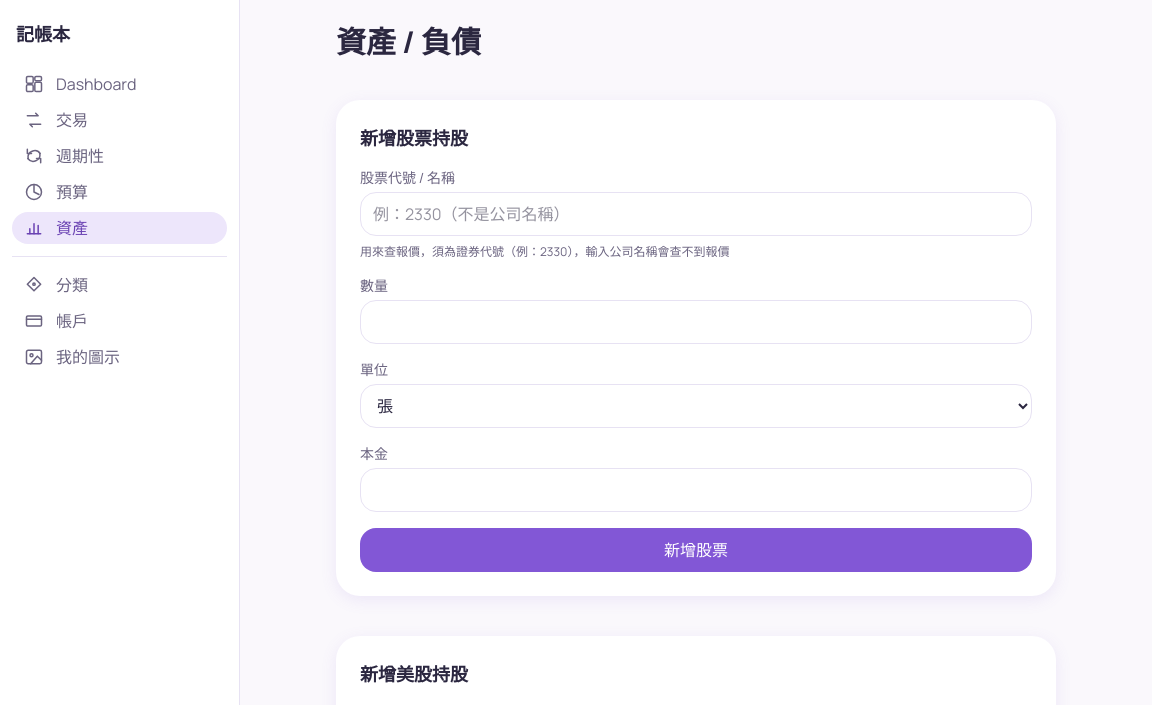
Test: AssetsPage › 輸入尚未持有的標的時不顯示合併提示，送出後 toast 顯示已新增
Type "2454" into the field labelled "股票代號 / 名稱" at (696, 214), box [360,192,1032,236]
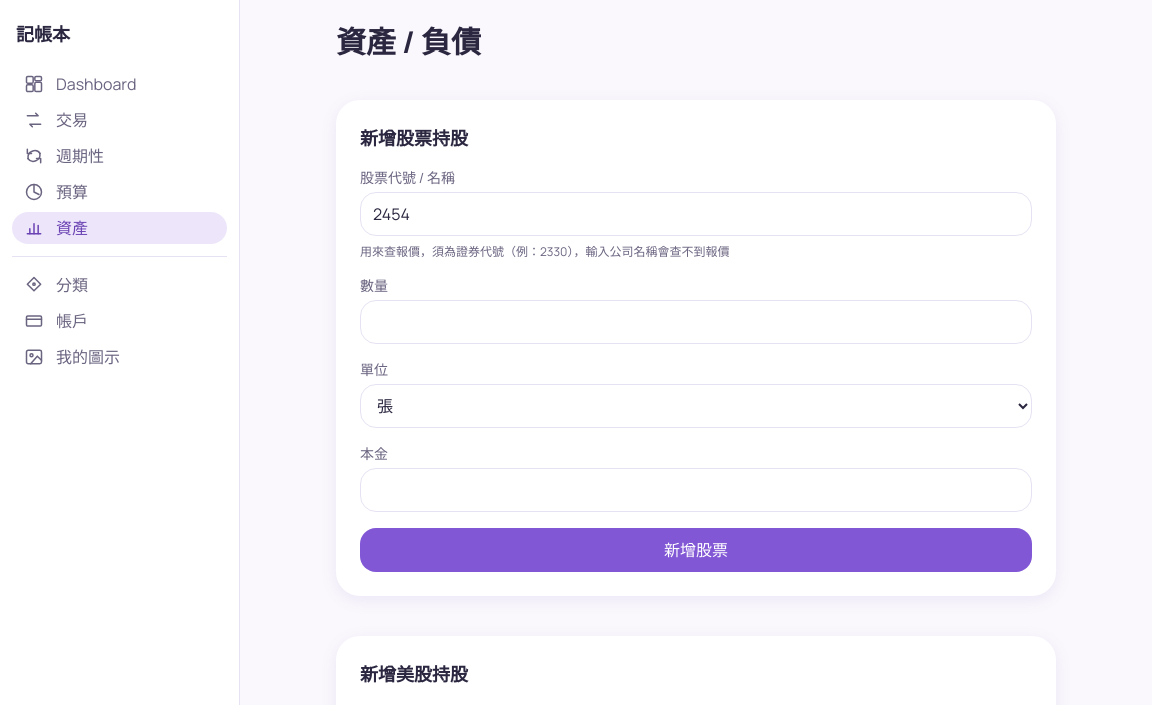
Type "1" into the field labelled "數量" at (696, 322), box [360,300,1032,344]
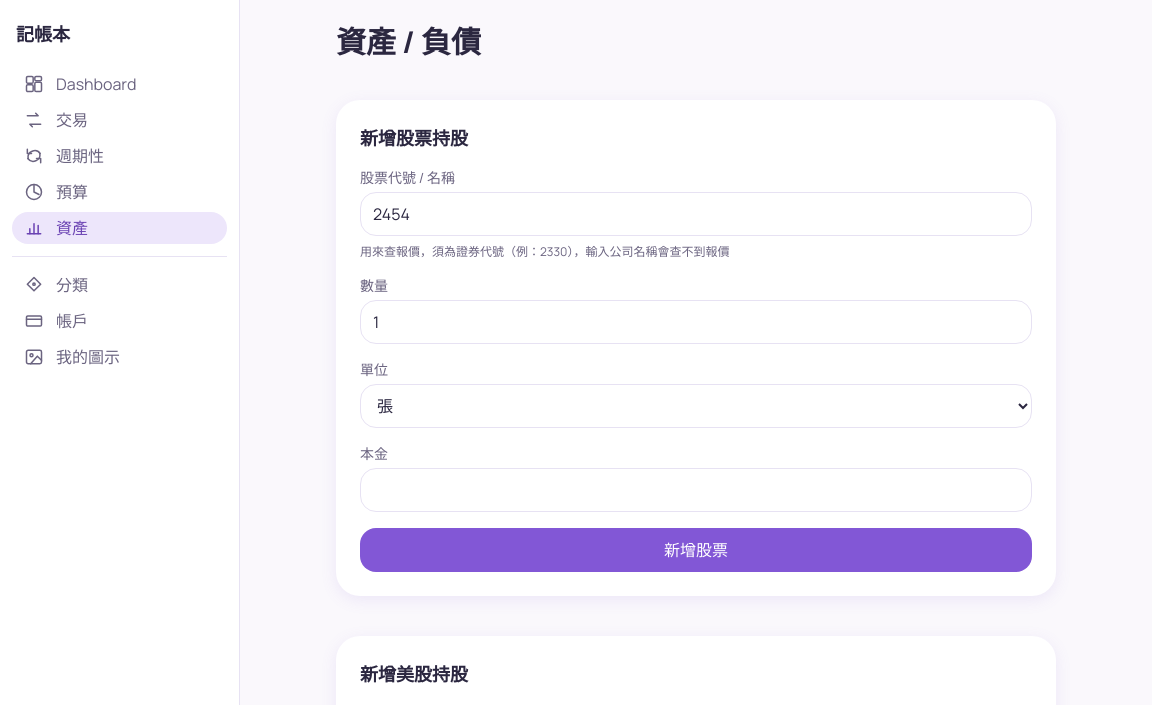
Type "5000" into the field labelled "本金" at (696, 490), box [360,468,1032,512]
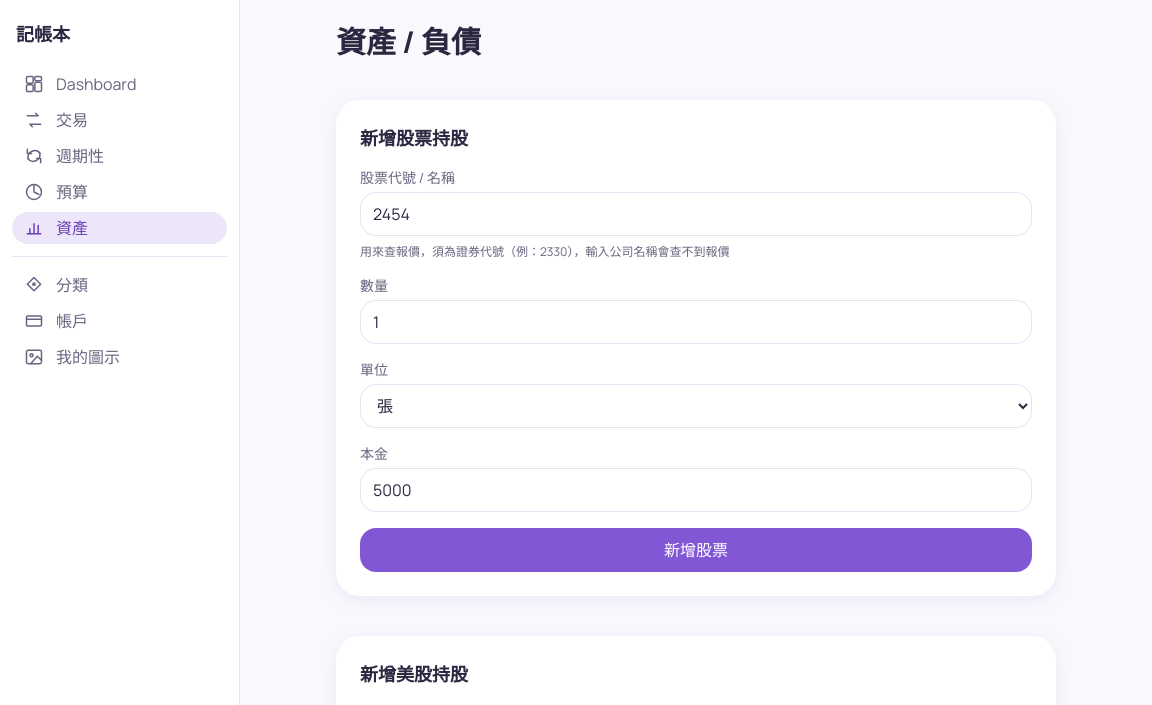
Click the button "新增股票" at (696, 550), box [360,528,1032,572]
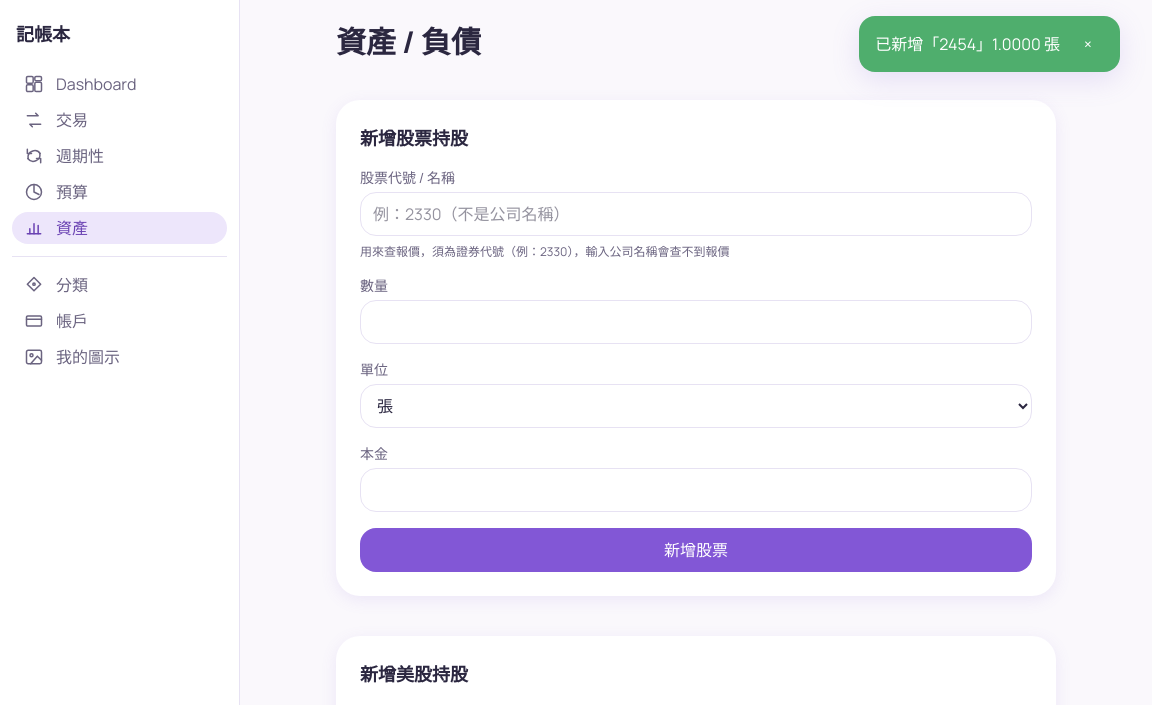
Check: the text "已新增「2454」1.0000 張" is shown, box [875,32,1060,56]
